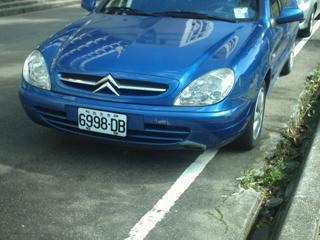plate: (75, 106, 128, 138)
